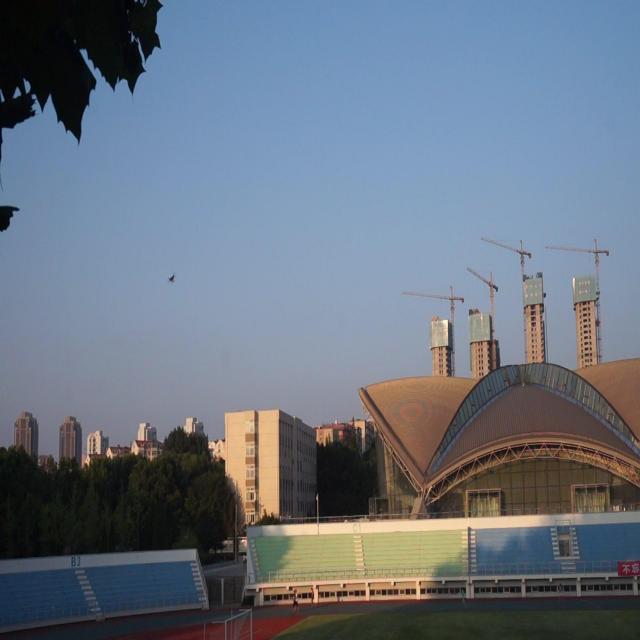UAV: (167, 272, 176, 284)
